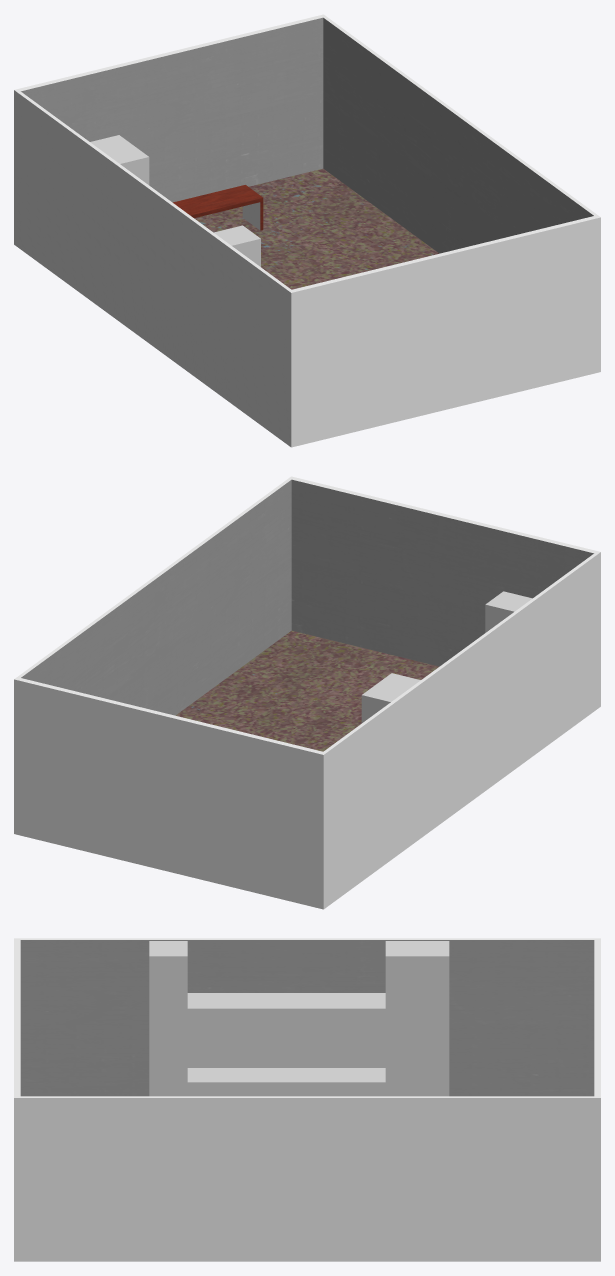
Rendered from Klaslokaal1.fbx.
3 renders of one model, top to bottom at view 1: azimuth 30°, elevation 25°; view 2: azimuth 150°, elevation 25°; view 3: azimuth 270°, elevation 25°, orthographic. The views are drawn at different scales.
Parts seen in each view (by area): view 1: Lokaal, kast, Tafel; view 2: Lokaal, kast; view 3: Lokaal, kast.
Boxes of the visible parts, x1,y1,x2,y2 form: Lokaal: (14, 14, 600, 447); kast: (90, 135, 260, 266); Tafel: (173, 185, 263, 230); Lokaal: (14, 476, 600, 909); kast: (361, 591, 532, 723); Lokaal: (14, 938, 600, 1261); kast: (149, 941, 449, 1096).
Bounding box in the file's own units: 690 × 329 × 1070.
